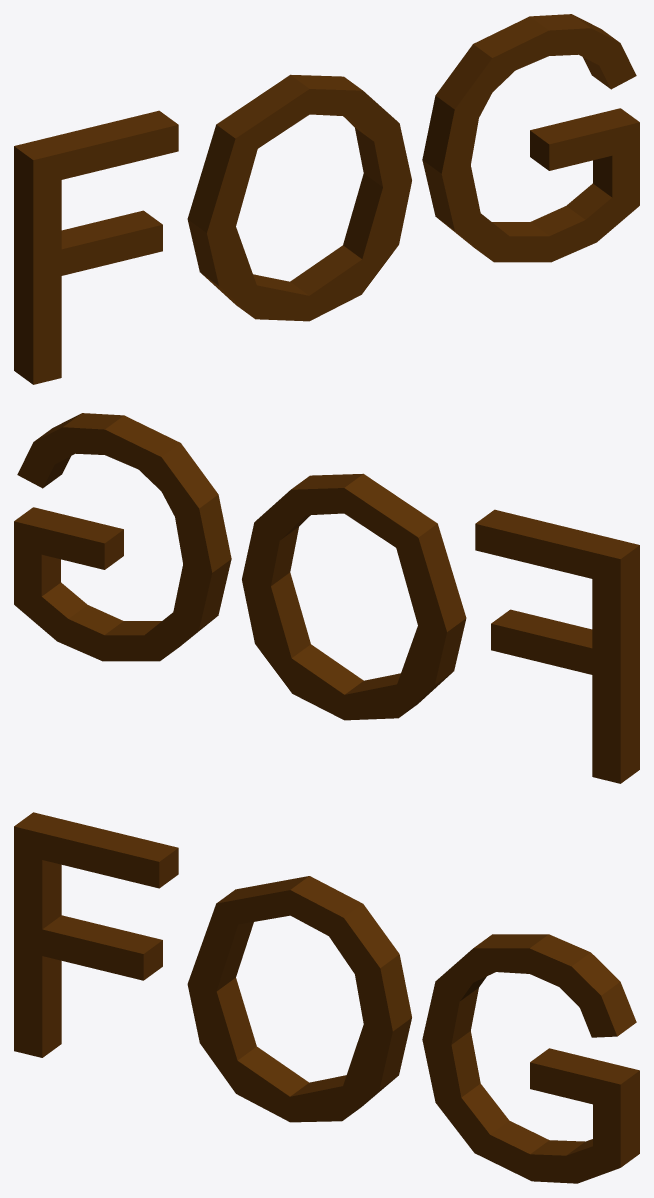
Rendered from INVISIBLE_ZCZONEZFOG.OBJ.
3 renders of one model, top to bottom at view 1: azimuth 30°, elevation 25°; view 2: azimuth 150°, elevation 25°; view 3: azimuth 330°, elevation 25°, orthographic.
Visible parts, largest first — view 1: INVISIBLE_ZCZONEZFOG; view 2: INVISIBLE_ZCZONEZFOG; view 3: INVISIBLE_ZCZONEZFOG.
Part boxes in pixels (x1,y1,x2,y2): INVISIBLE_ZCZONEZFOG: [14, 14, 639, 384]; INVISIBLE_ZCZONEZFOG: [14, 413, 639, 783]; INVISIBLE_ZCZONEZFOG: [14, 812, 639, 1183].
Size of the model in its own units: 1.81 by 0.663 by 0.1.
